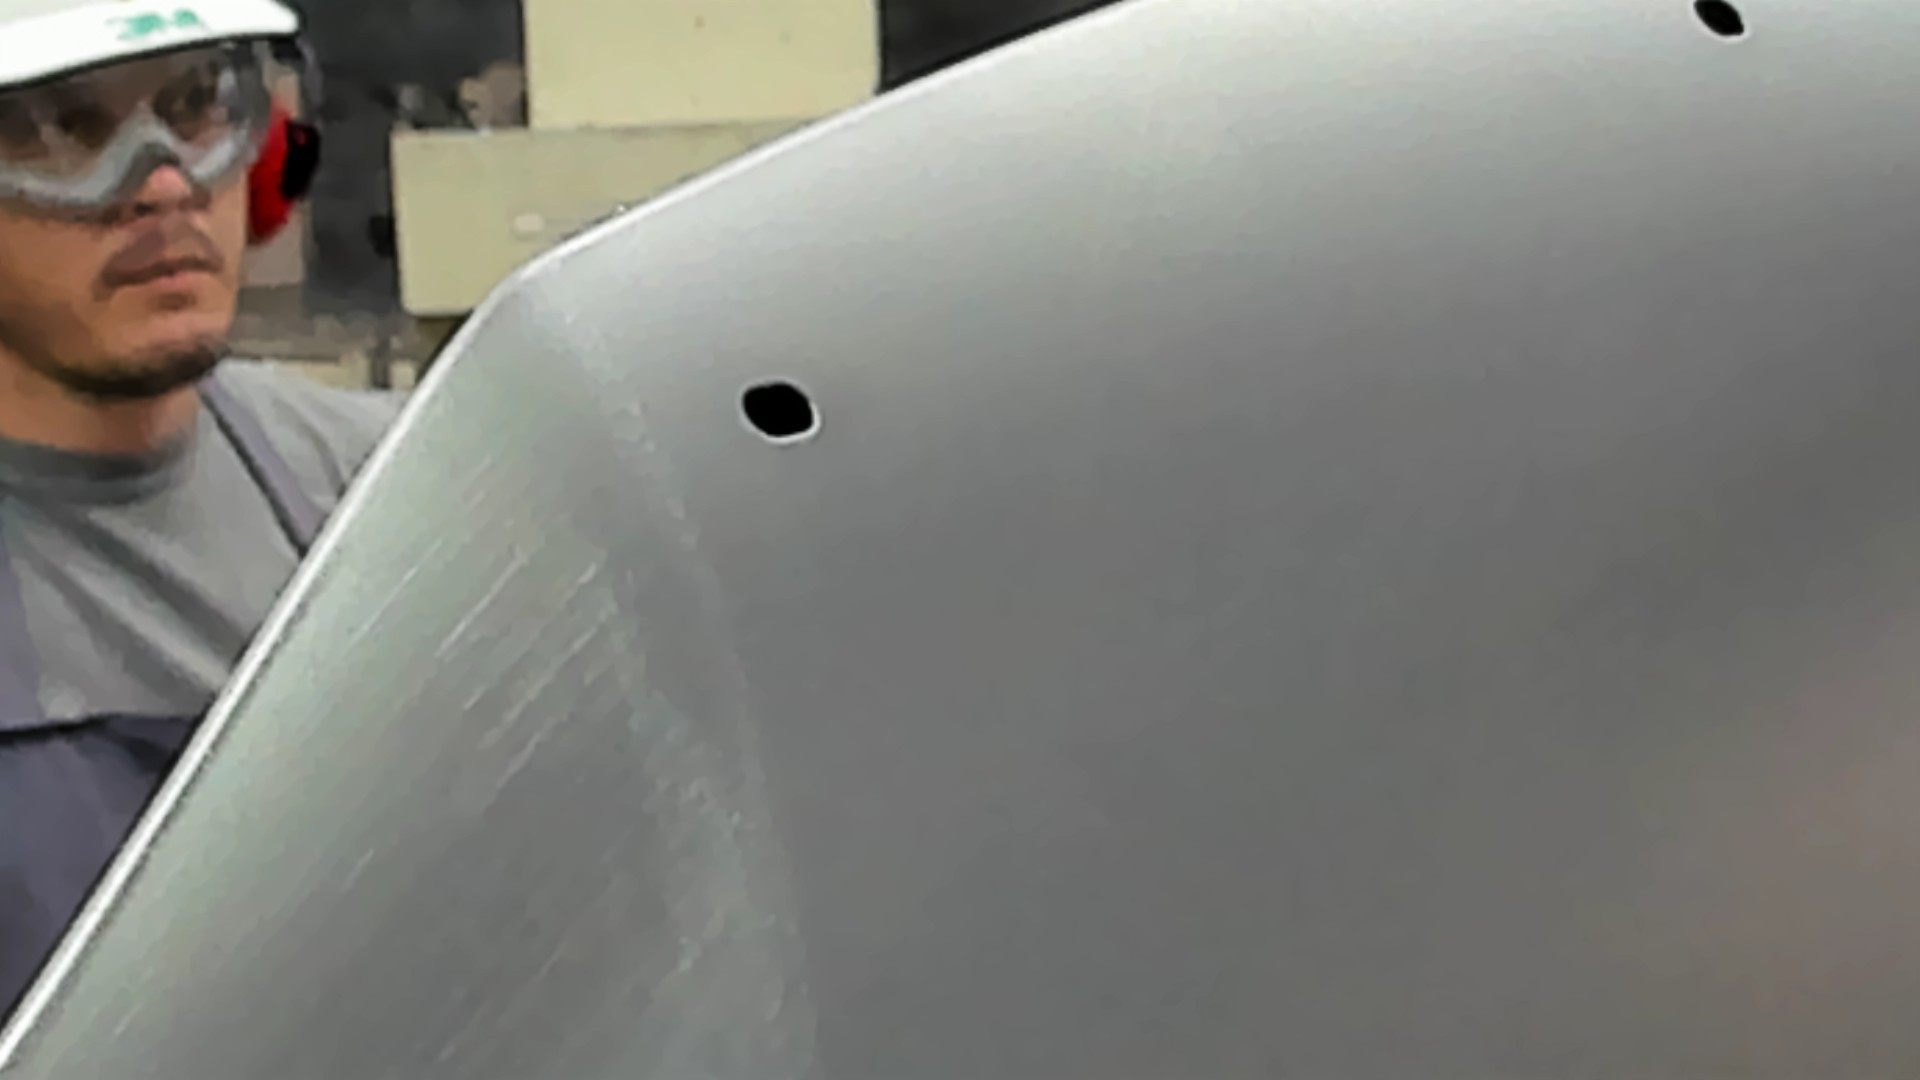amorfo: (736, 381, 823, 444), (1691, 1, 1754, 47)
